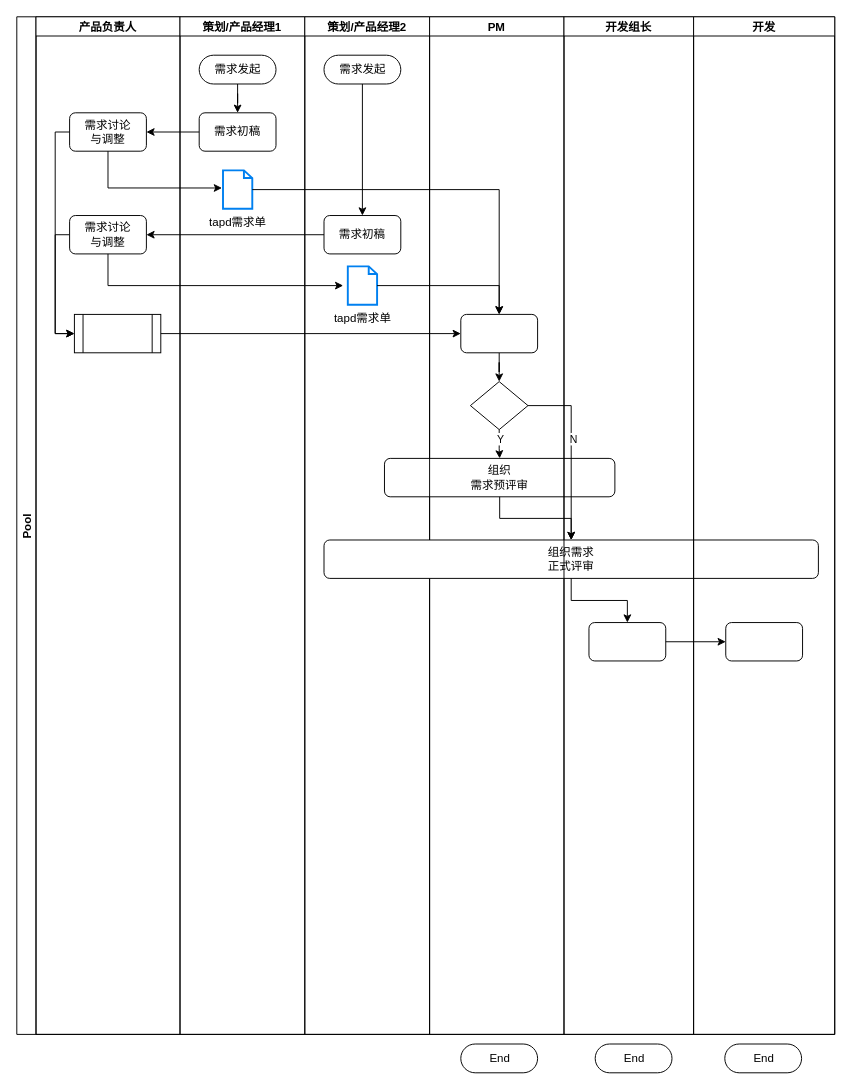
Some shapes in this 852 by 1090 pixel diagram are drawn without their labels. The shapes that lost their labels are listed below. From the top down, each one's centre as x and y in pixels, then its label:
At (117,333): "确认优先级".
At (499,333): "需求接收".
At (498,405): "是否 复杂".
At (627,641): "技术方案评估".
At (764,641): "评估工作量".
